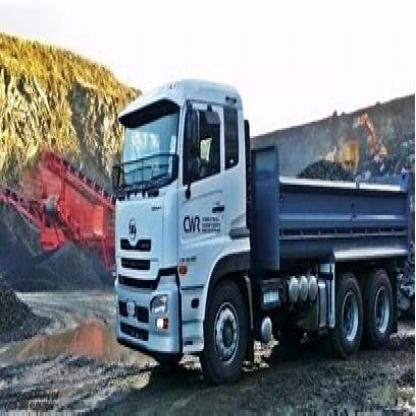dump_truck: (109, 55, 415, 377)
